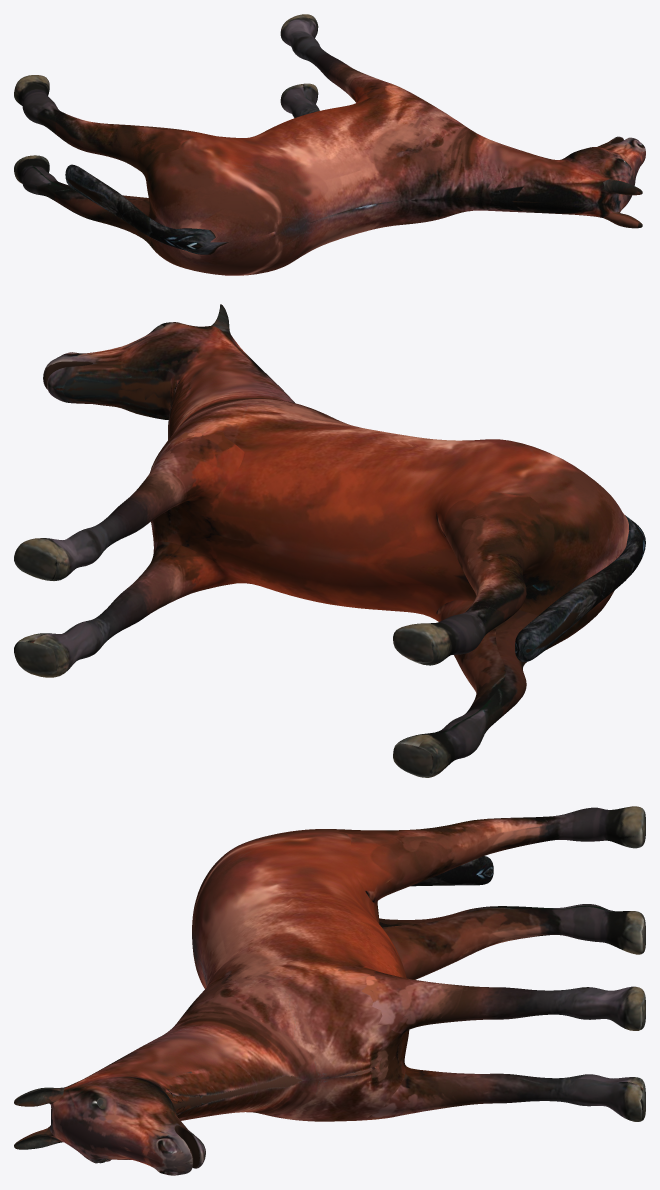
The model's file is horse_v01.obj.
3 views of the same model, one above another, from view 1: azimuth 30°, elevation 25°; view 2: azimuth 150°, elevation 25°; view 3: azimuth 270°, elevation 25° (orthographic). The views are drawn at different scales.
Visible parts, largest first — view 1: horse_v01; view 2: horse_v01; view 3: horse_v01.
Boxes of the visible parts, left/top/right/bottom form: horse_v01: left=14, top=14, right=645, bottom=275; horse_v01: left=14, top=304, right=645, bottom=777; horse_v01: left=14, top=806, right=645, bottom=1175.
Bounding box in the file's own units: 1.79 × 0.4266 × 1.6.
Materials: 1 (1 with a texture image).
